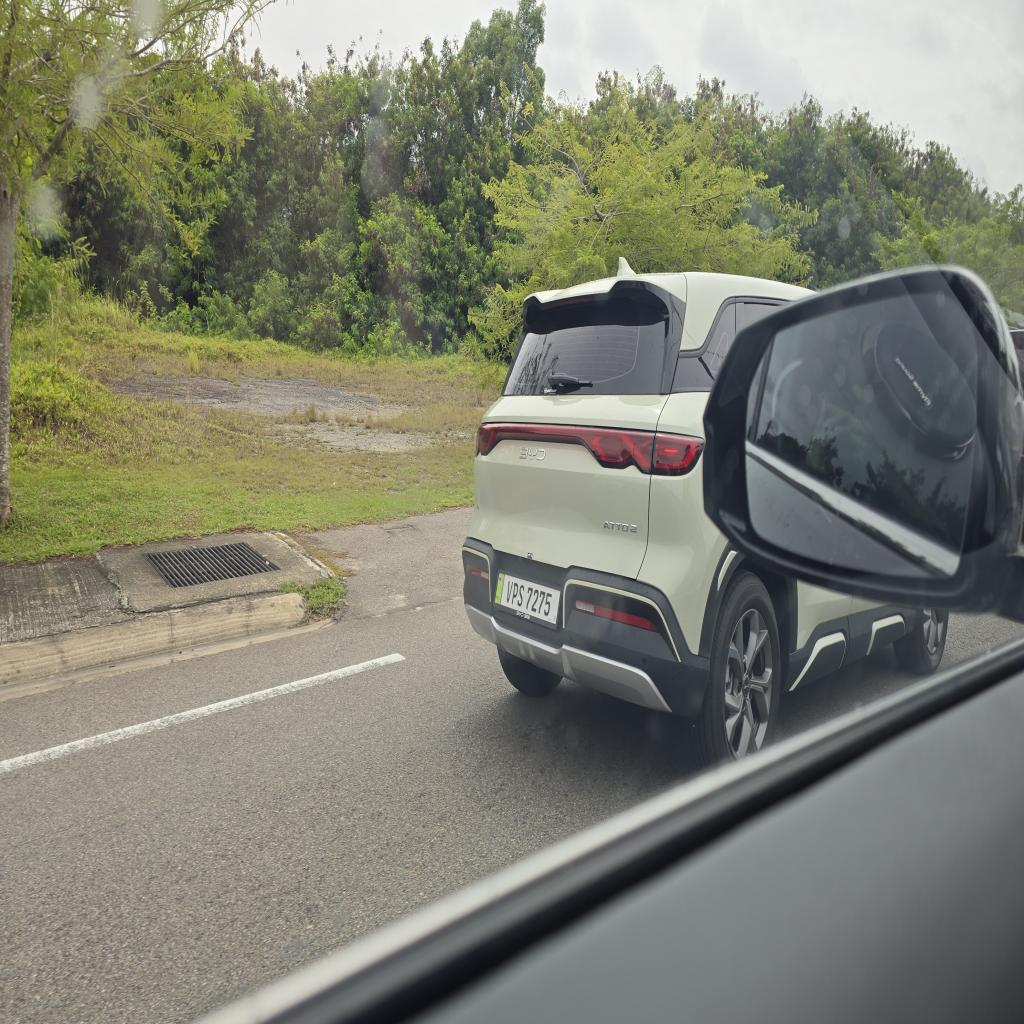car: (463, 260, 947, 764)
car plate: (495, 573, 560, 623)
